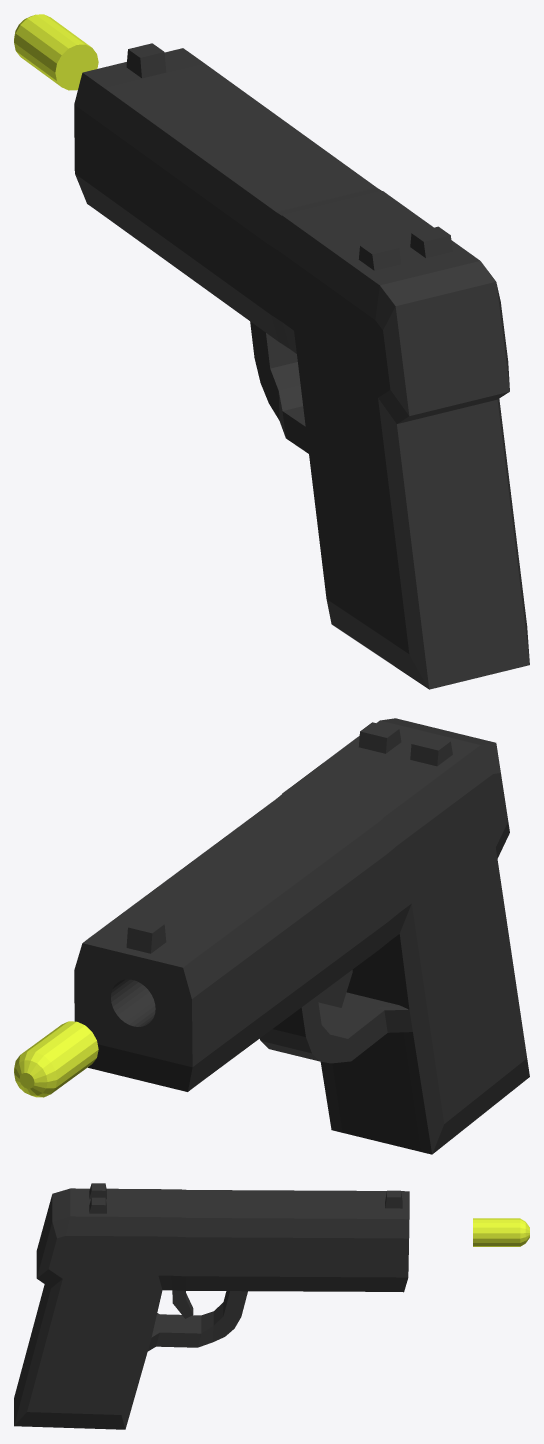
The model's file is gun.fbx.
The picture shows the model from 3 angles, top to bottom: view 1: azimuth 30°, elevation 25°; view 2: azimuth 150°, elevation 25°; view 3: azimuth 270°, elevation 25°; orthographic projection. The views are drawn at different scales.
Parts seen in each view (by area): view 1: Gun, Bullet; view 2: Gun, Bullet; view 3: Gun, Bullet.
Boxes of the visible parts, <box> form: Gun: <box>74,43,529,689</box>; Bullet: <box>14,14,98,90</box>; Gun: <box>74,718,529,1154</box>; Bullet: <box>14,1021,98,1097</box>; Gun: <box>14,1183,409,1429</box>; Bullet: <box>473,1218,529,1246</box>.
Size of the model in its own units: 0.2764 by 0.8727 by 1.84.
